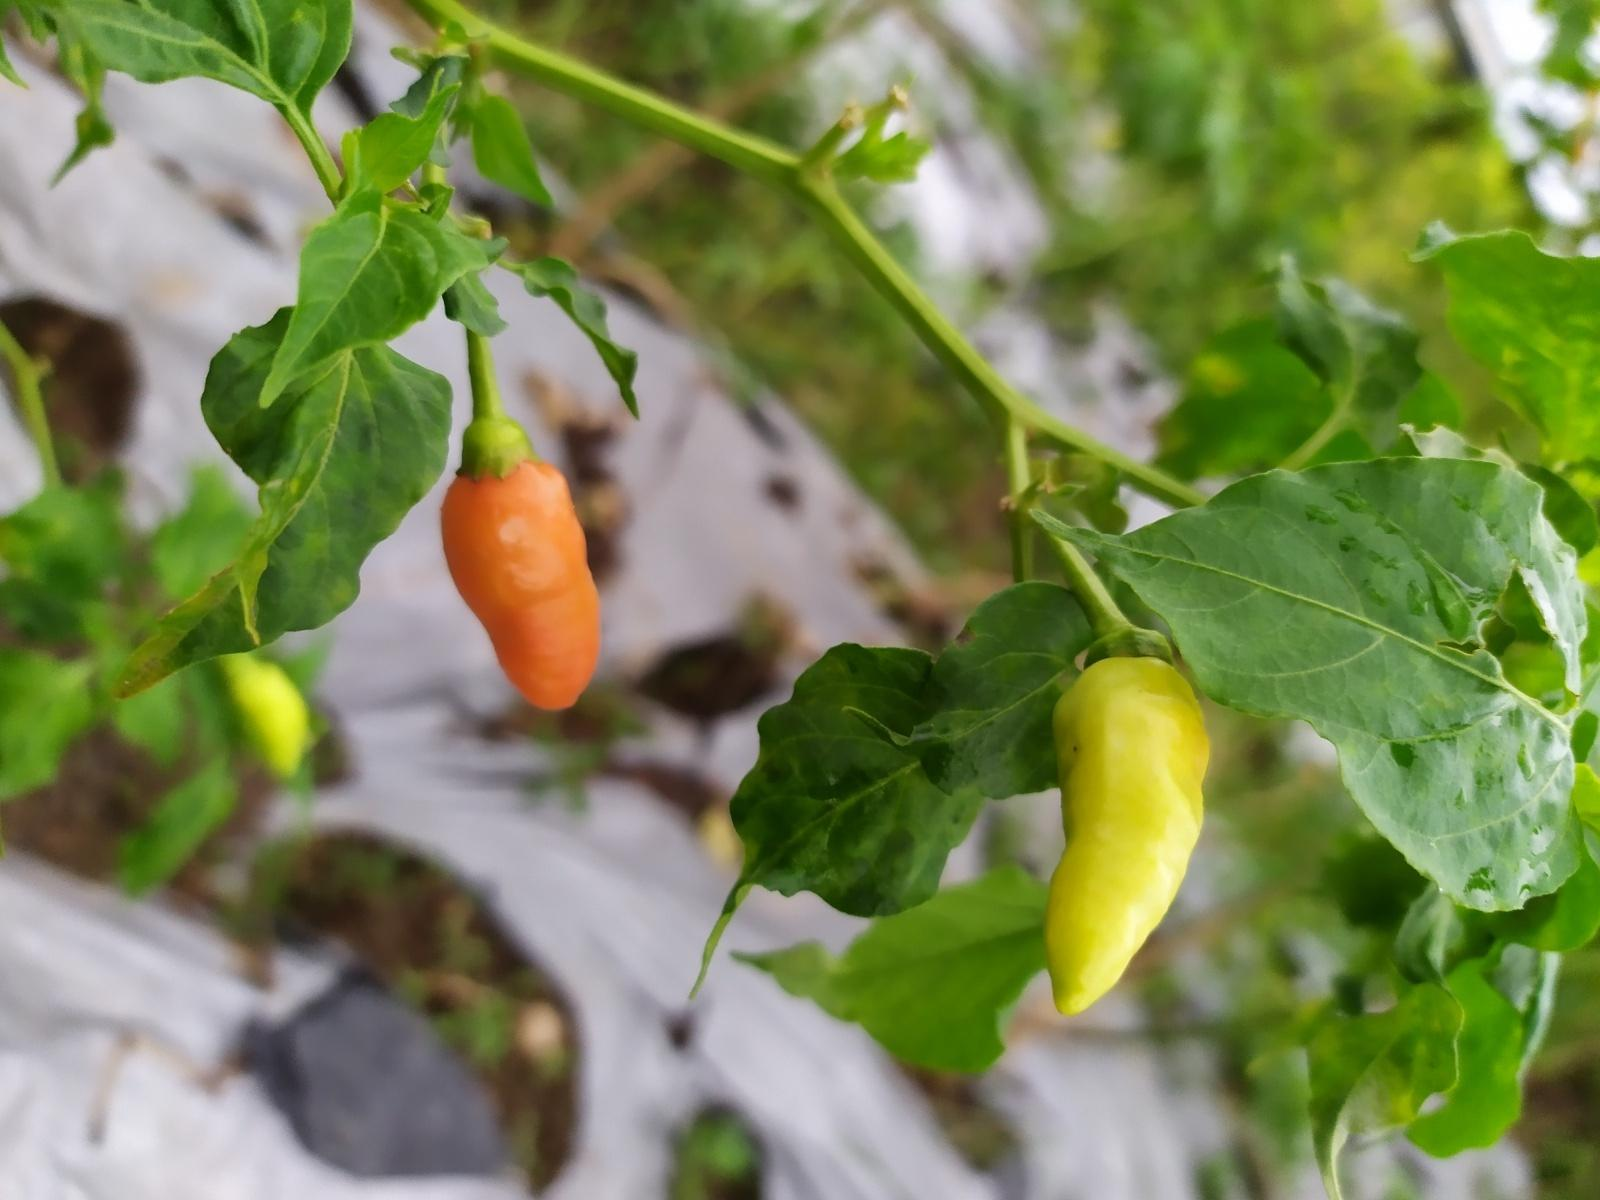cabai_normal: (1044, 652, 1209, 1018), (441, 460, 603, 711)
